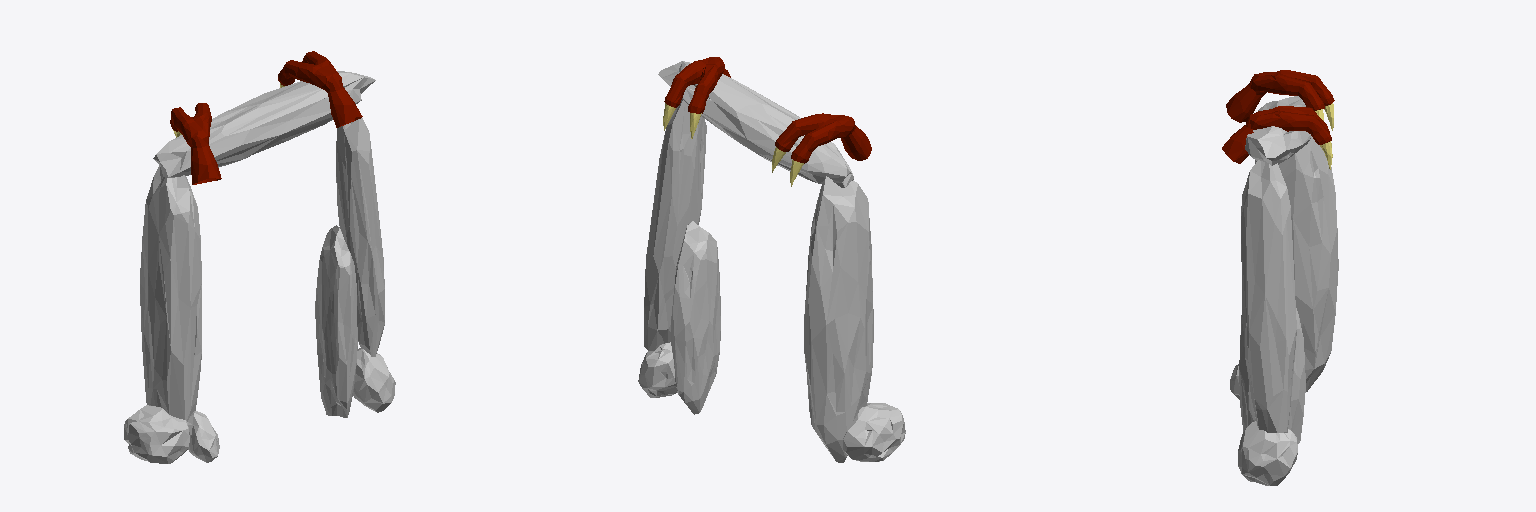
Rendered from PortalDinos.obj.
3 renders of one model, left to right at view 1: azimuth 30°, elevation 25°; view 2: azimuth 150°, elevation 25°; view 3: azimuth 270°, elevation 25°, orthographic.
Visible parts, largest first — view 1: Cube.010; view 2: Cube.010; view 3: Cube.010.
Boxes of the visible parts, <box> form: Cube.010: <box>124,51,395,463</box>; Cube.010: <box>638,57,905,462</box>; Cube.010: <box>1222,70,1338,485</box>.
Bounding box in the file's own units: 5.05 × 6.69 × 2.